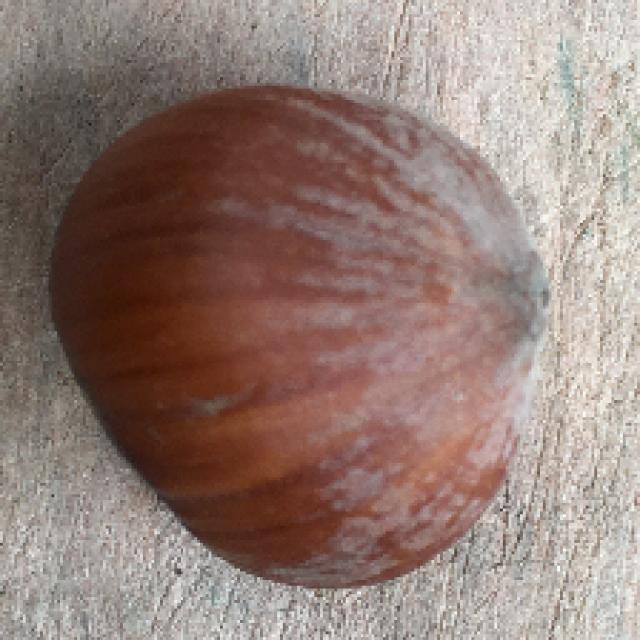QualityHazelnut: (44, 84, 548, 591)
